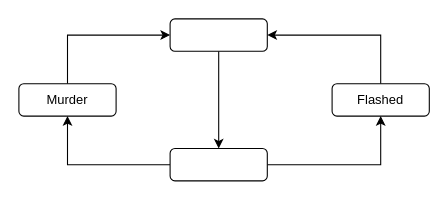
The diagram is 448 pixels wide and 200 high, and some of its shapes have lost their labels. Here are the shapes that lost their labels. From the top down, the centre of each, then its label:
At pixel 218 34: "Wander".
At pixel 218 164: "Chase".
